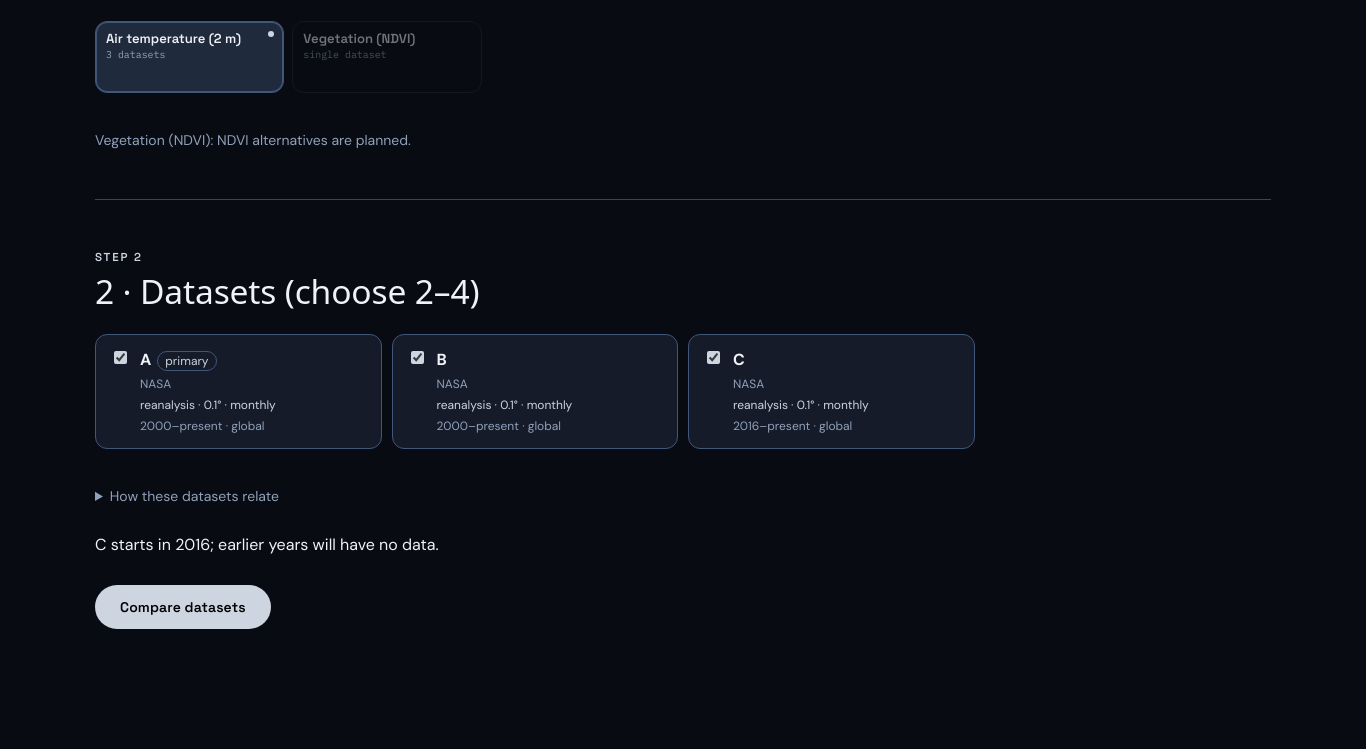
Test: Compare datasets page › does not present submitted comparison results as current after dataset controls change
The width and height of the screenshot is (1366, 749).
(page scrolled)
Click the button "Compare datasets" at (183, 607), box [95, 585, 271, 629]
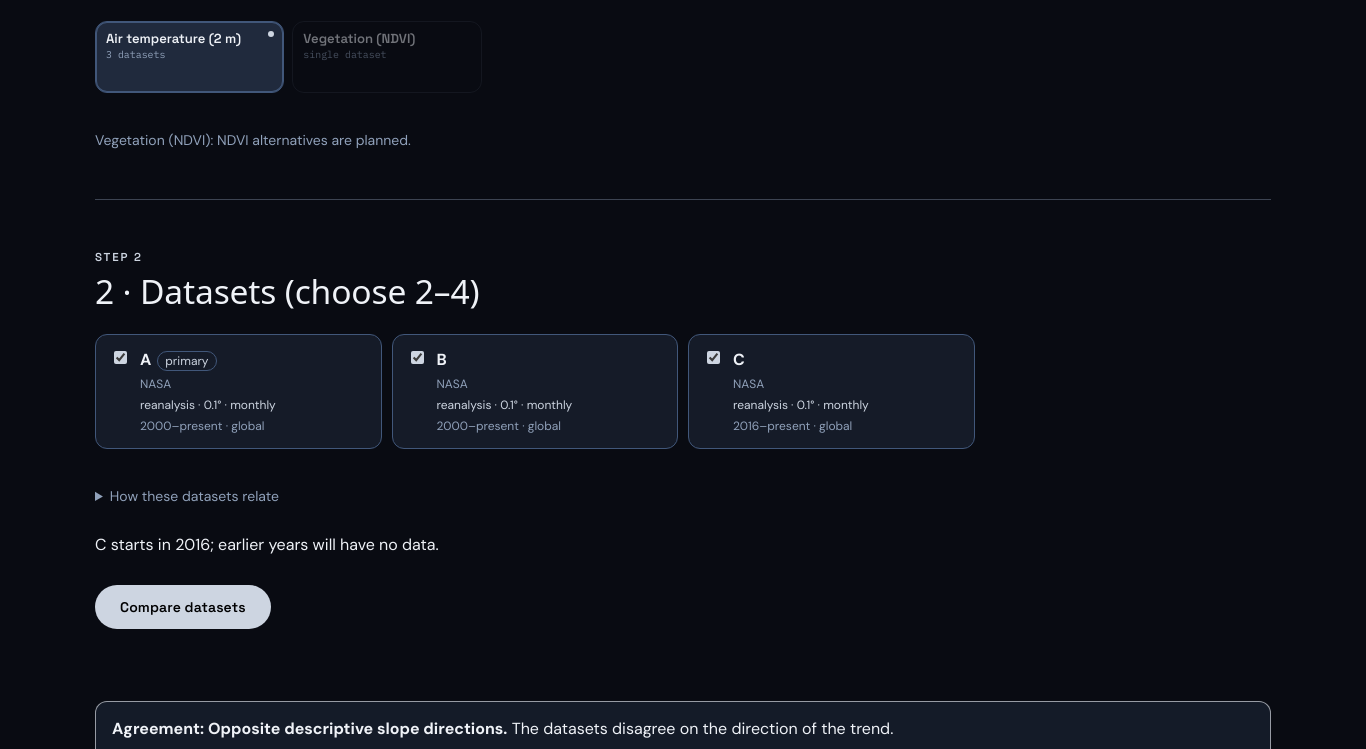
Result: the text "Agreement: Opposite descriptive slope directions." is shown at [112, 718, 507, 739]
Click the checkbox labelled "C NASA reanalysis · 0.1° · monthly 2016–present · global" at (714, 358), box [707, 351, 720, 364]
(page scrolled)
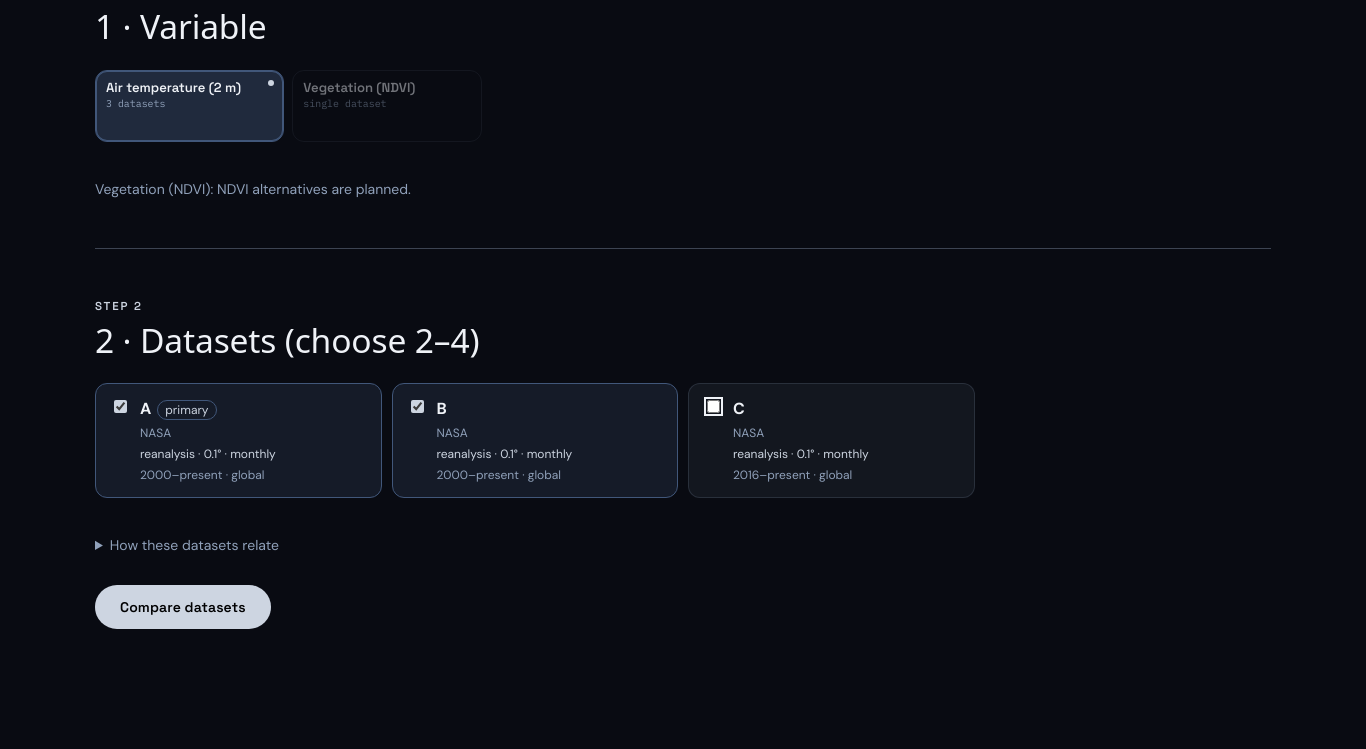
Result: the text "Agreement: Opposite descriptive slope directions" is gone
